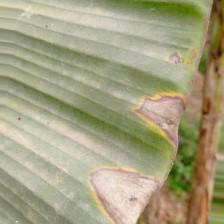cordana: (0, 0, 214, 224)
